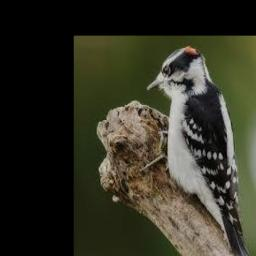Woodpecker: (139, 45, 256, 256)
